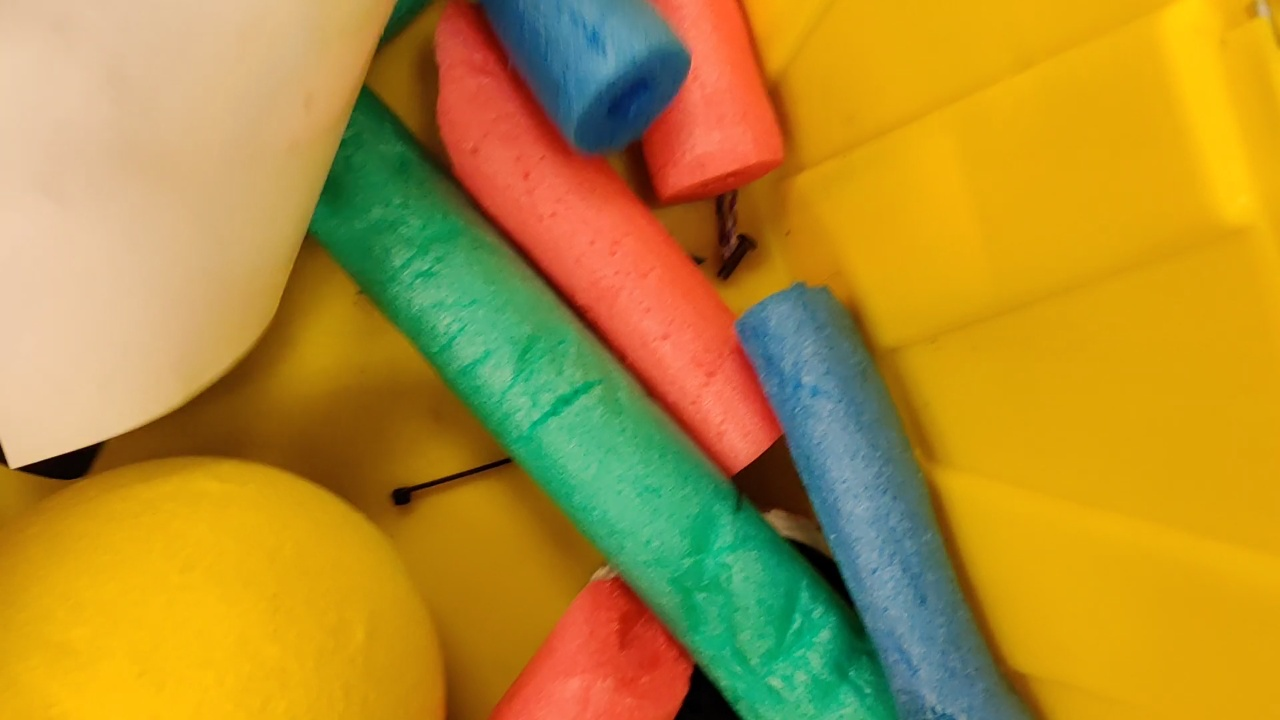Ball: (1, 454, 445, 720)
